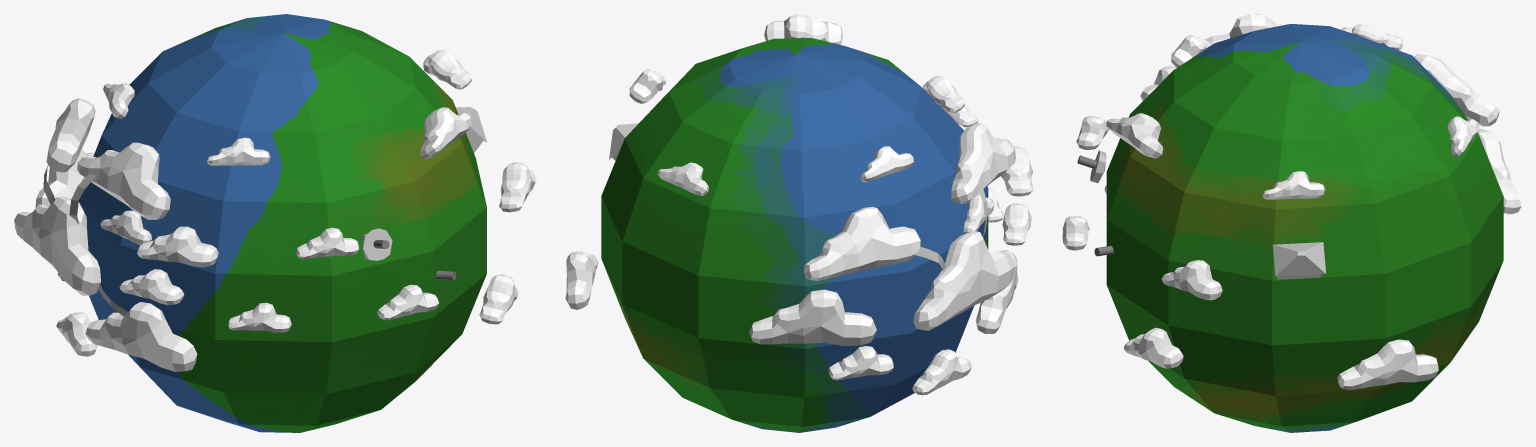
The model's file is menuMUNDOpraunity.fbx.
3 views of the same model, side by side, from view 1: azimuth 30°, elevation 25°; view 2: azimuth 150°, elevation 25°; view 3: azimuth 270°, elevation 25° (orthographic). The views are drawn at different scales.
Parts seen in each view (by area): view 1: mundo, Cube, ilha, casinha; view 2: mundo, Cube, casinha; view 3: mundo, Cube, casinha.
Part boxes in pixels (bbox=[...]): mundo: bbox=[78, 14, 486, 432]; Cube: bbox=[14, 50, 536, 371]; ilha: bbox=[361, 228, 392, 260]; casinha: bbox=[456, 107, 487, 152]; mundo: bbox=[601, 38, 988, 432]; Cube: bbox=[565, 14, 1033, 395]; casinha: bbox=[609, 123, 638, 160]; mundo: bbox=[1106, 24, 1503, 432]; Cube: bbox=[1062, 14, 1521, 390]; casinha: bbox=[1272, 242, 1325, 279].
Size of the model in its own units: 233 by 200 by 223.
